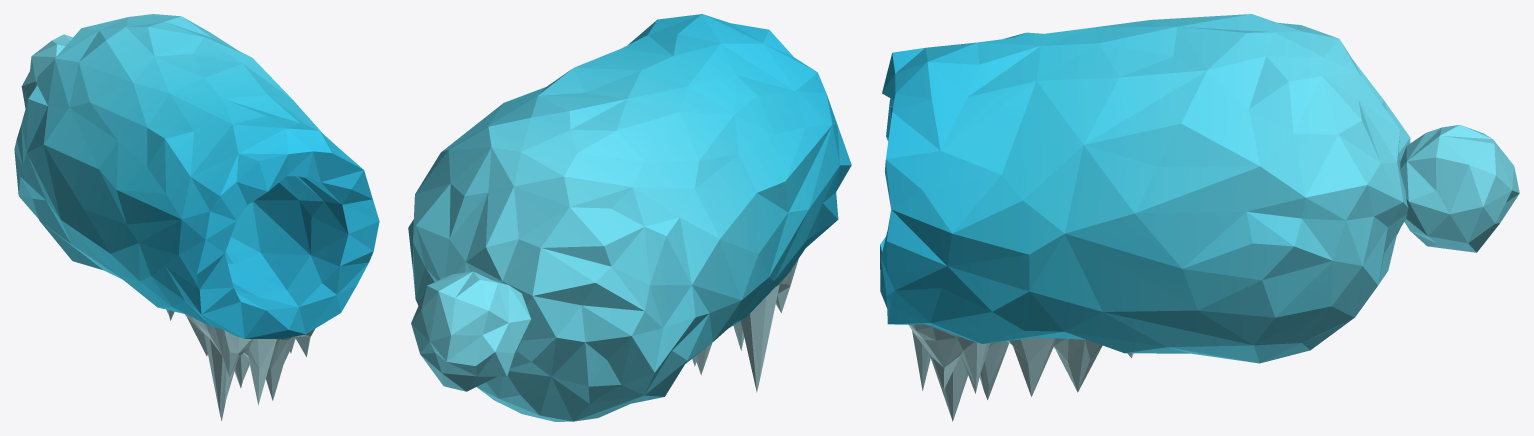
File: cannon_002.fbx
3 views of the same model, side by side, from view 1: azimuth 30°, elevation 25°; view 2: azimuth 150°, elevation 25°; view 3: azimuth 270°, elevation 25° (orthographic). The views are drawn at different scales.
Parts seen in each view (by area): view 1: cannon_002; view 2: cannon_002; view 3: cannon_002.
Part boxes in pixels (x1=…): cannon_002: x1=14, y1=14, x2=379, y2=420; cannon_002: x1=408, y1=14, x2=851, y2=421; cannon_002: x1=880, y1=14, x2=1519, y2=421.
Size of the model in its own units: 232 by 434 by 294.
